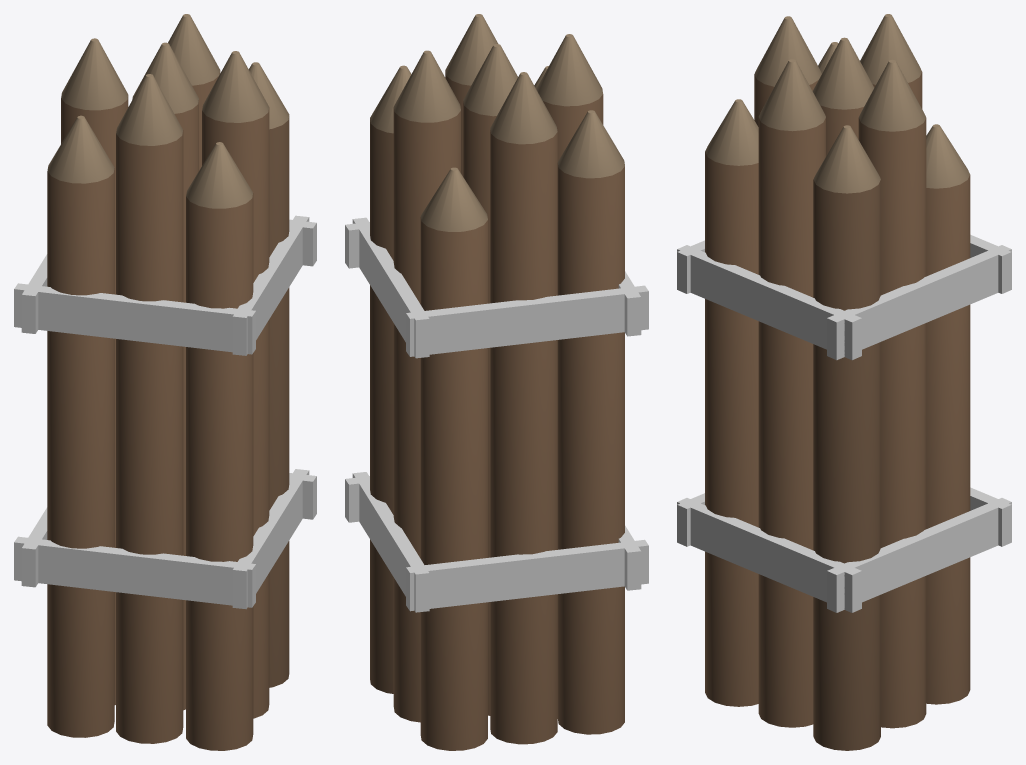
File: Stockade.fbx
3 views of the same model, side by side, from view 1: azimuth 30°, elevation 25°; view 2: azimuth 150°, elevation 25°; view 3: azimuth 270°, elevation 25° (orthographic).
Visible parts, largest first — view 1: Cylinder.012, Cylinder.011, Cylinder.014, Cube.010, Cube.003, Cylinder.013, Cylinder.007, Cylinder.009, Cylinder.010, Cylinder.006; view 2: Cylinder.009, Cylinder.011, Cylinder.008, Cylinder.006, Cube.003, Cube.010, Cylinder.007, Cylinder.010, Cylinder.012, Cylinder.013; view 3: Cylinder.007, Cylinder.013, Cylinder.006, Cylinder.014, Cylinder.008, Cube.010, Cube.003, Cylinder.010, Cylinder.012, Cylinder.009.
Boxes of the visible parts, box(x1,y1,x2,y2) form: Cylinder.012: box(116, 74, 183, 743); Cylinder.011: box(47, 115, 114, 737); Cylinder.014: box(186, 142, 253, 750); Cube.010: box(14, 469, 316, 609); Cube.003: box(14, 215, 316, 355); Cylinder.013: box(202, 51, 269, 718); Cylinder.007: box(249, 62, 289, 687); Cylinder.009: box(61, 38, 128, 704); Cylinder.010: box(132, 42, 198, 710); Cylinder.006: box(168, 14, 220, 170); Cylinder.009: box(490, 72, 557, 744); Cylinder.011: box(557, 110, 624, 734); Cylinder.008: box(420, 167, 487, 750); Cylinder.006: box(393, 50, 460, 722); Cube.003: box(345, 217, 648, 358); Cube.010: box(345, 472, 648, 612); Cylinder.007: box(370, 65, 411, 693); Cylinder.010: box(463, 44, 517, 715); Cylinder.012: box(536, 34, 603, 161); Cylinder.013: box(445, 14, 498, 176); Cylinder.007: box(813, 125, 880, 750); Cylinder.013: box(758, 59, 825, 727); Cylinder.006: box(858, 59, 926, 728); Cylinder.014: box(705, 99, 758, 706); Cylinder.008: box(926, 124, 970, 704); Cube.010: box(677, 487, 1011, 612); Cube.003: box(677, 234, 1011, 360); Cylinder.010: box(812, 37, 874, 156); Cylinder.012: box(754, 16, 821, 126); Cylinder.009: box(860, 14, 922, 108).
Size of the model in its own units: 283 by 600 by 279.
